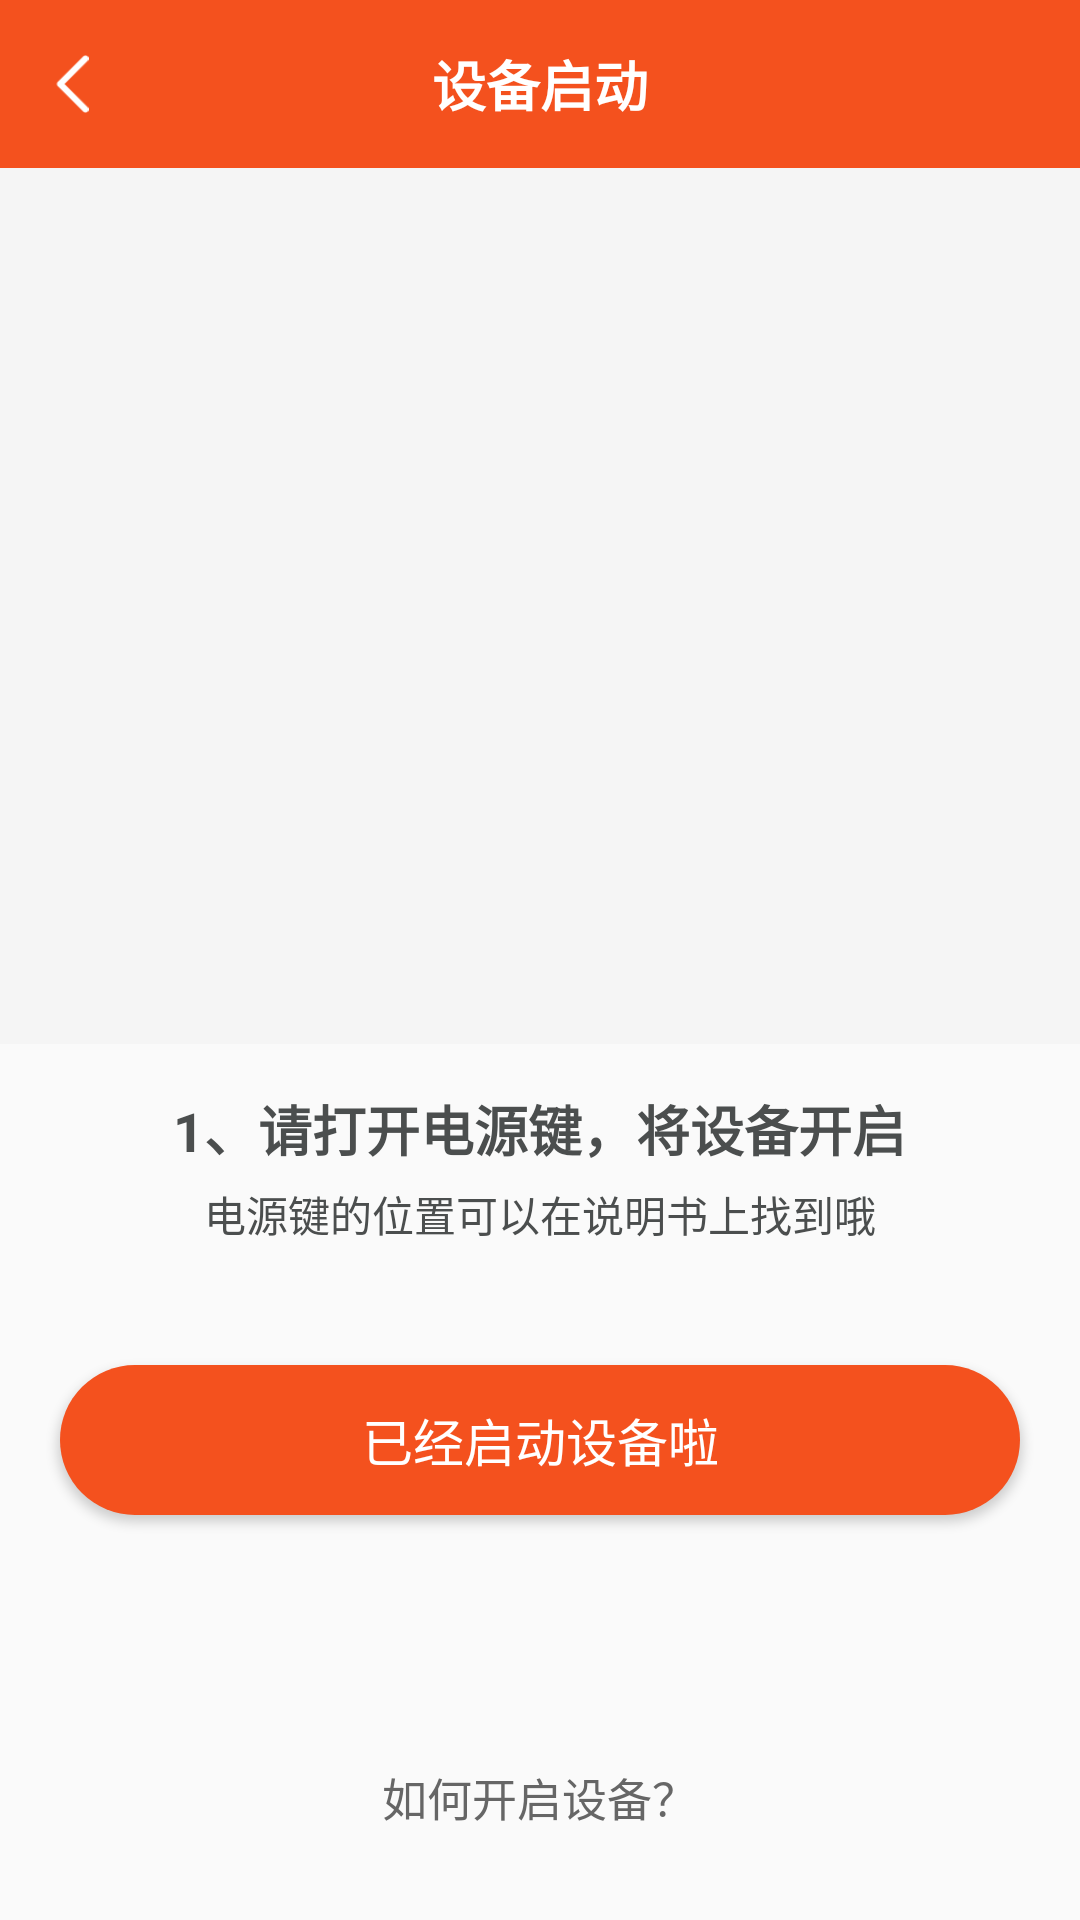

Icons on this 1080w x 1920h Android screen, each with its box as (x1,y1,x2,y2):
fanhui: (56,55,89,113)
